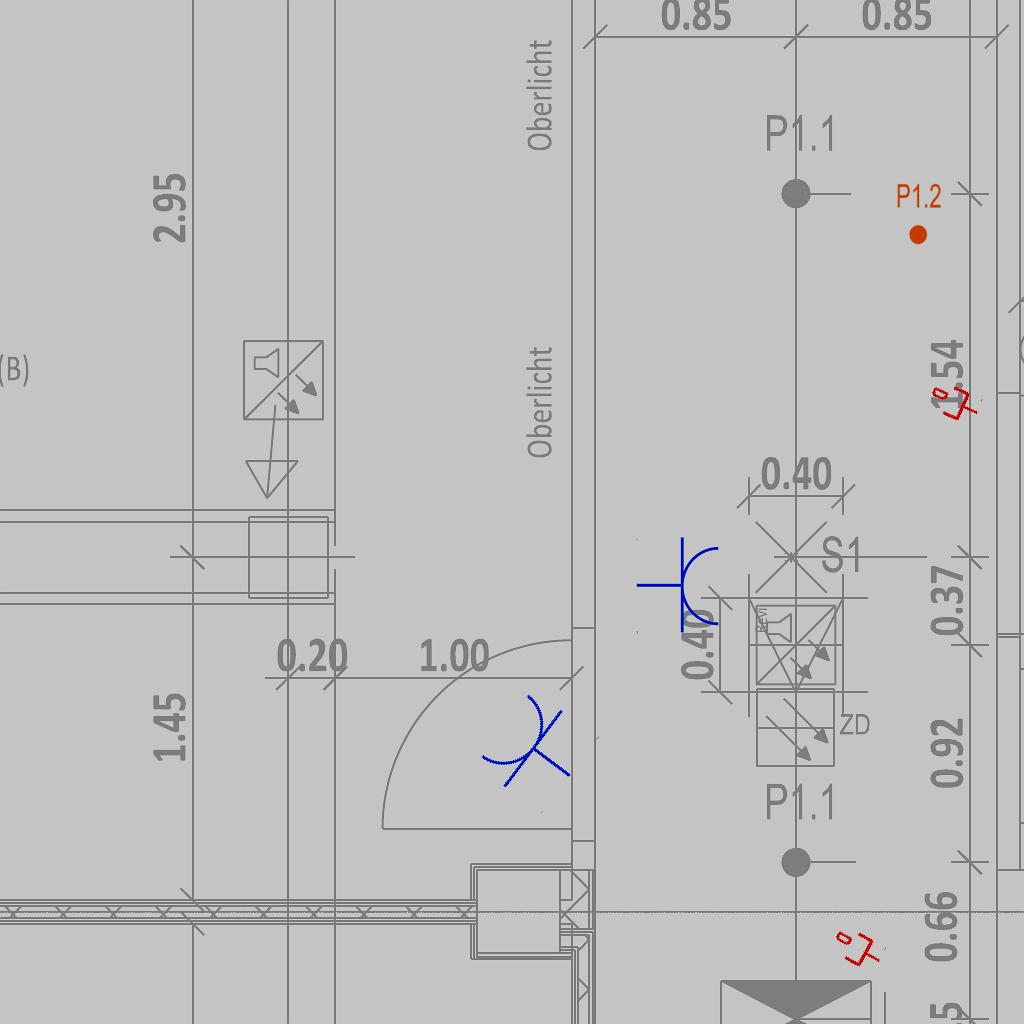Datenanschluss_einfach: (827, 922, 889, 976), (925, 377, 985, 429)
Downlight_LED_Einbauleuchten_Flur: (896, 182, 942, 246)
Schukosteckdose_einfach: (471, 683, 601, 816), (636, 536, 723, 636)
